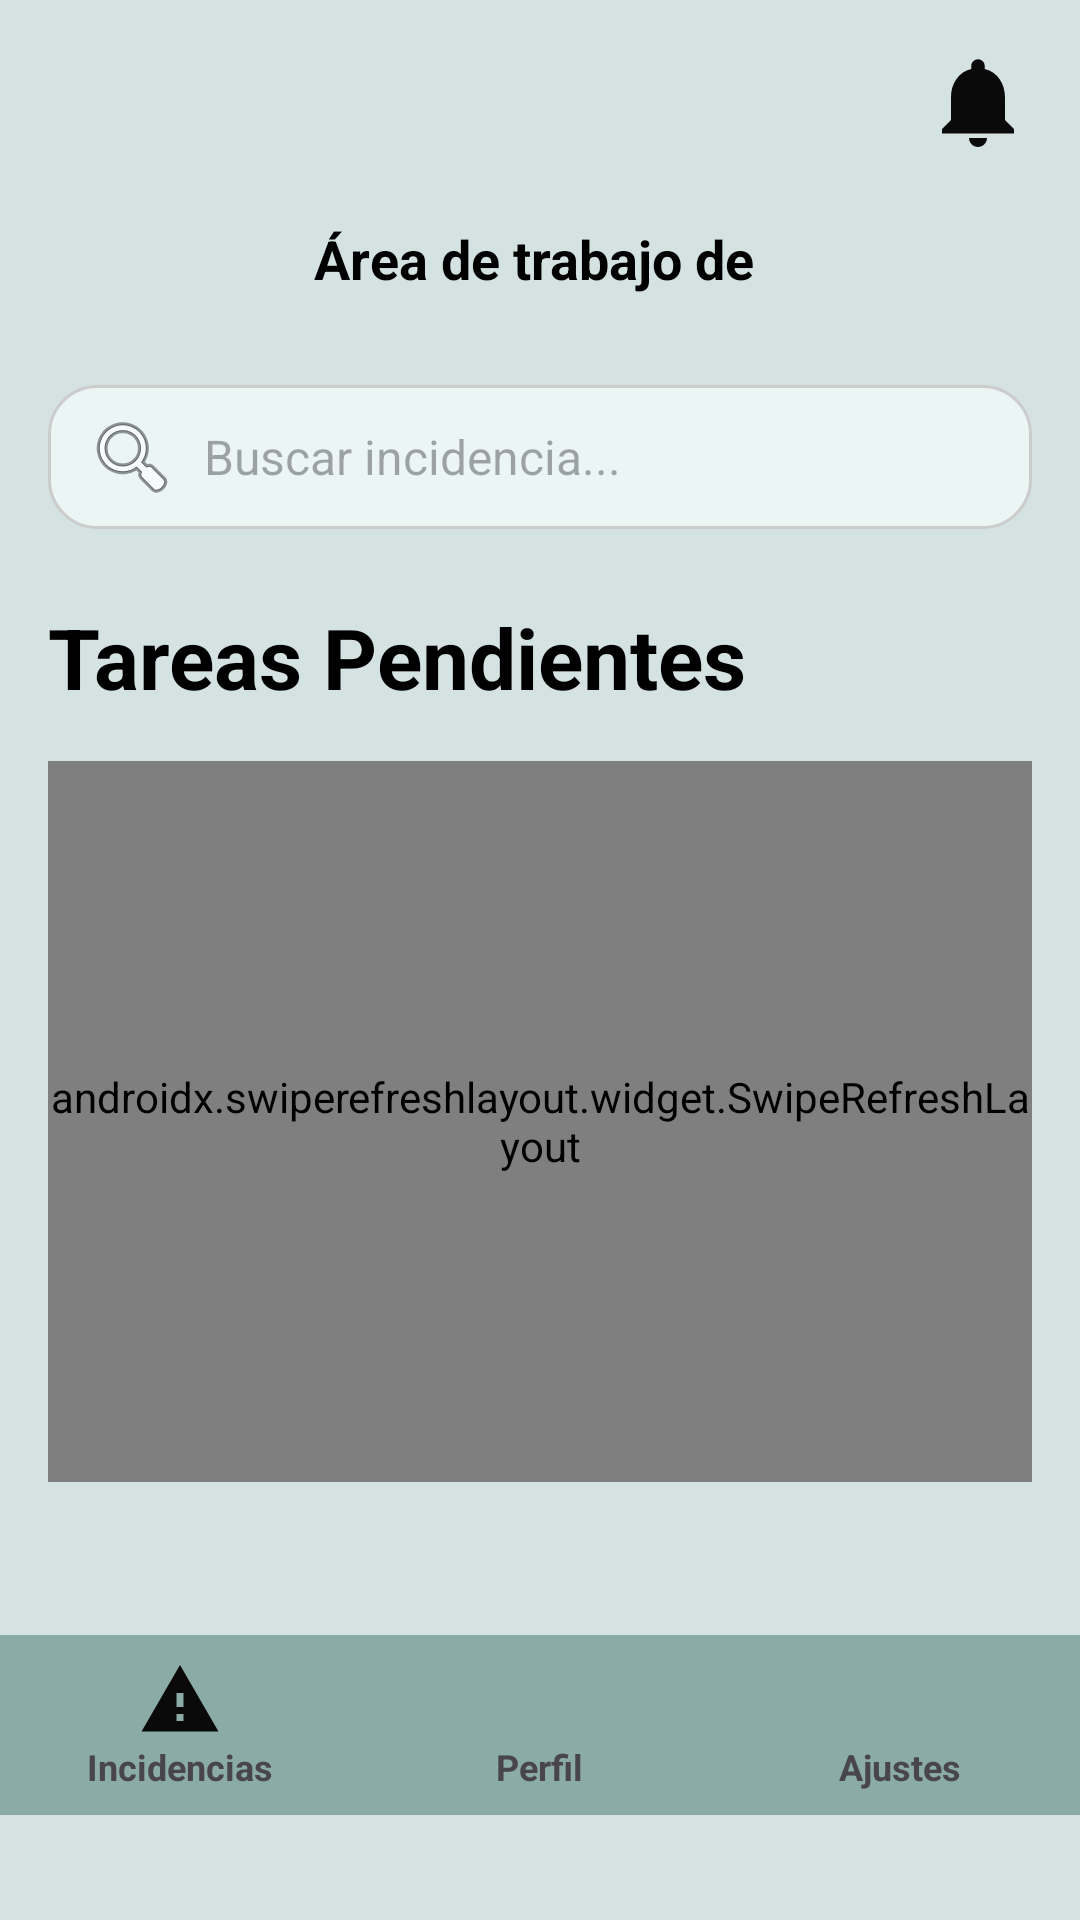

Where icons sit on this 1080 × 1920 app screen, as (x1, y1, x2, y2):
Notificaciones: (942, 59, 1014, 147)
warning: (141, 1665, 219, 1732)
